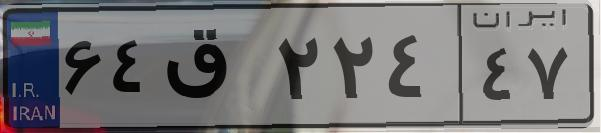2: (270, 28, 330, 110), (330, 28, 385, 110)
4: (385, 28, 445, 110), (475, 38, 525, 113), (110, 28, 158, 98)
6: (57, 26, 110, 100)
7: (525, 38, 570, 115)
ق: (158, 20, 270, 120)
